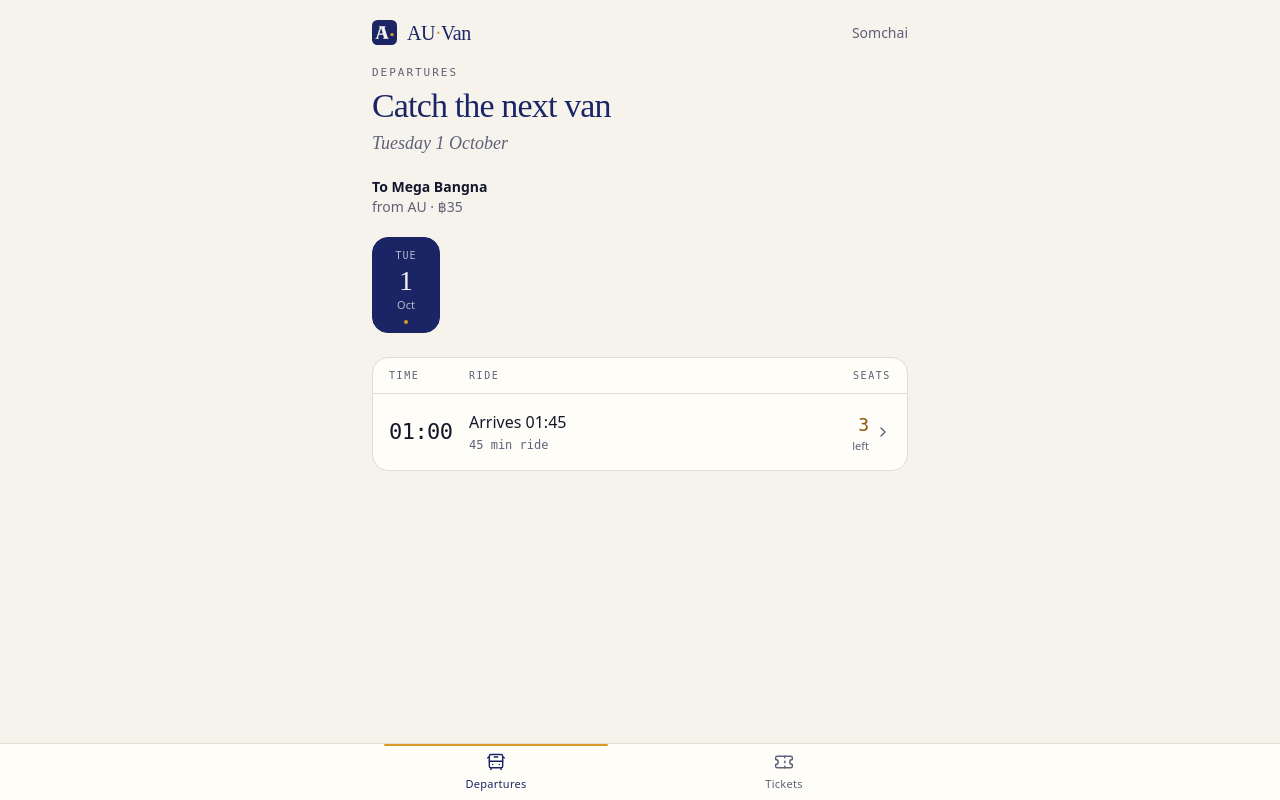
Scenario: Student app › keeps the student on the seat step when the map fails for another reason
The width and height of the screenshot is (1280, 800).
Click the button with aria-label "Mega Bangna".
click(421, 432)  # box [373,394,907,470]
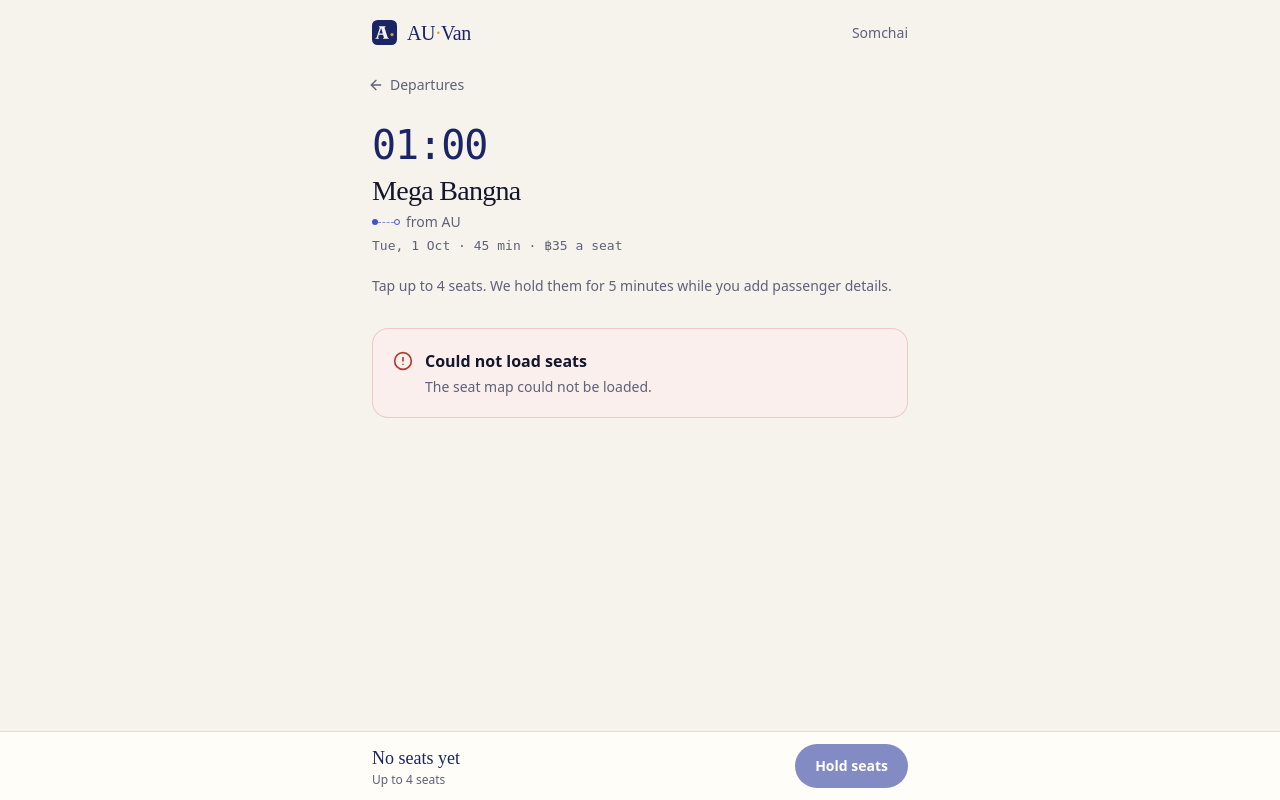
Check: the button "Departures" is shown, box [368,65,464,105]
Check: the text "The seat map could not be loaded." is shown, box [425,376,652,396]
